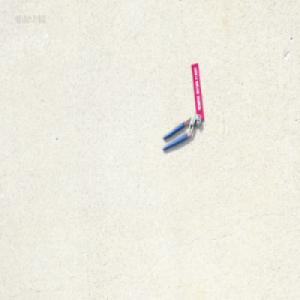Label: (191, 61, 204, 120)
Pliers: (161, 111, 202, 151)
